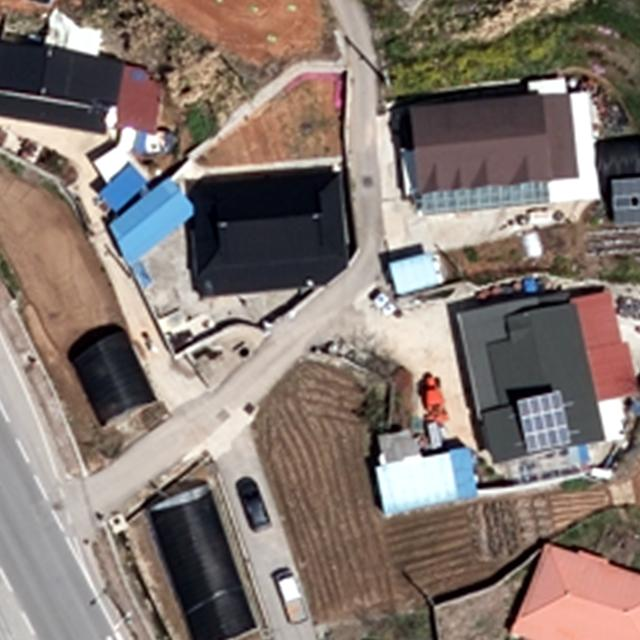panel: (516, 387, 576, 453)
